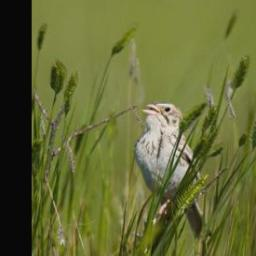Sparrow: (132, 100, 210, 237)
